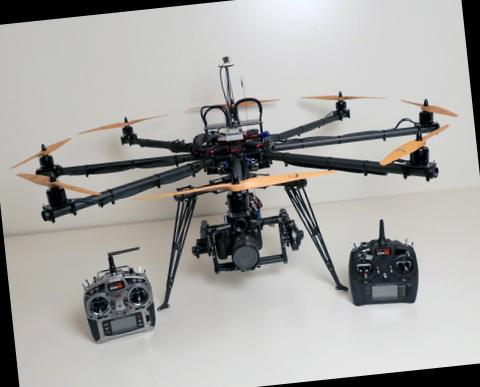drone: (11, 66, 473, 278)
